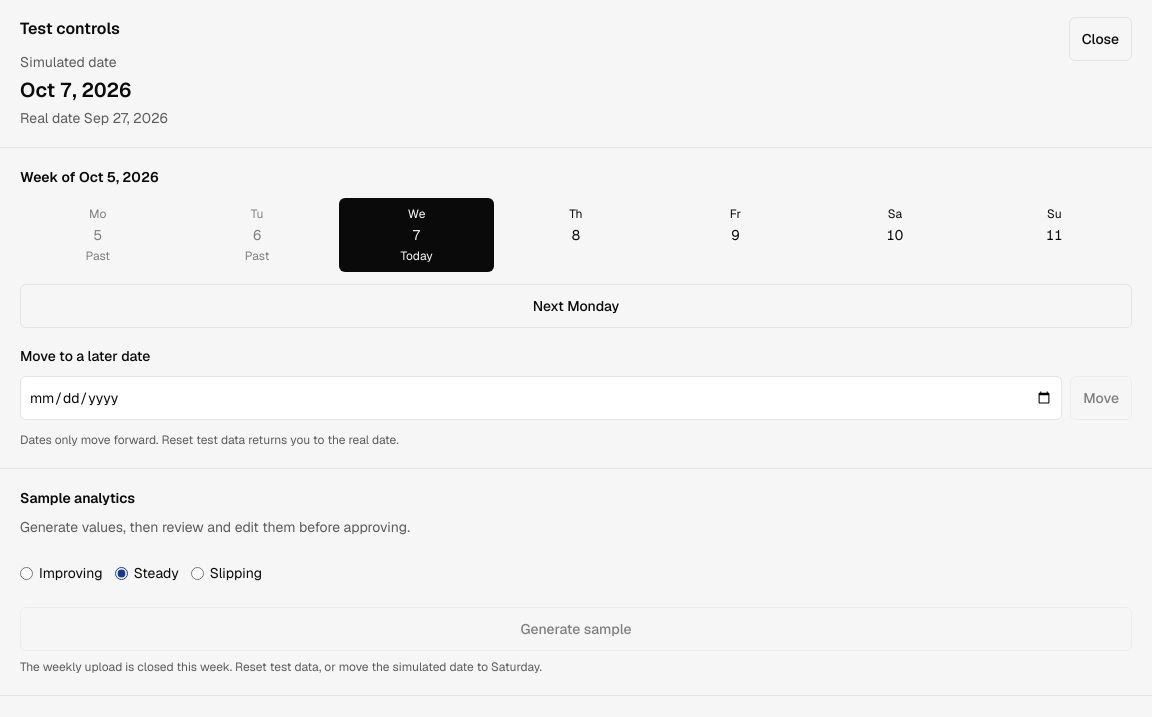
Test controls › moves to a later simulated date and displays its formatted date
The width and height of the screenshot is (1152, 717).
Click the button with aria-label "Th 8, move to Oct 8, 2026" at (576, 235), box [498,198,654,272]
(page scrolled)
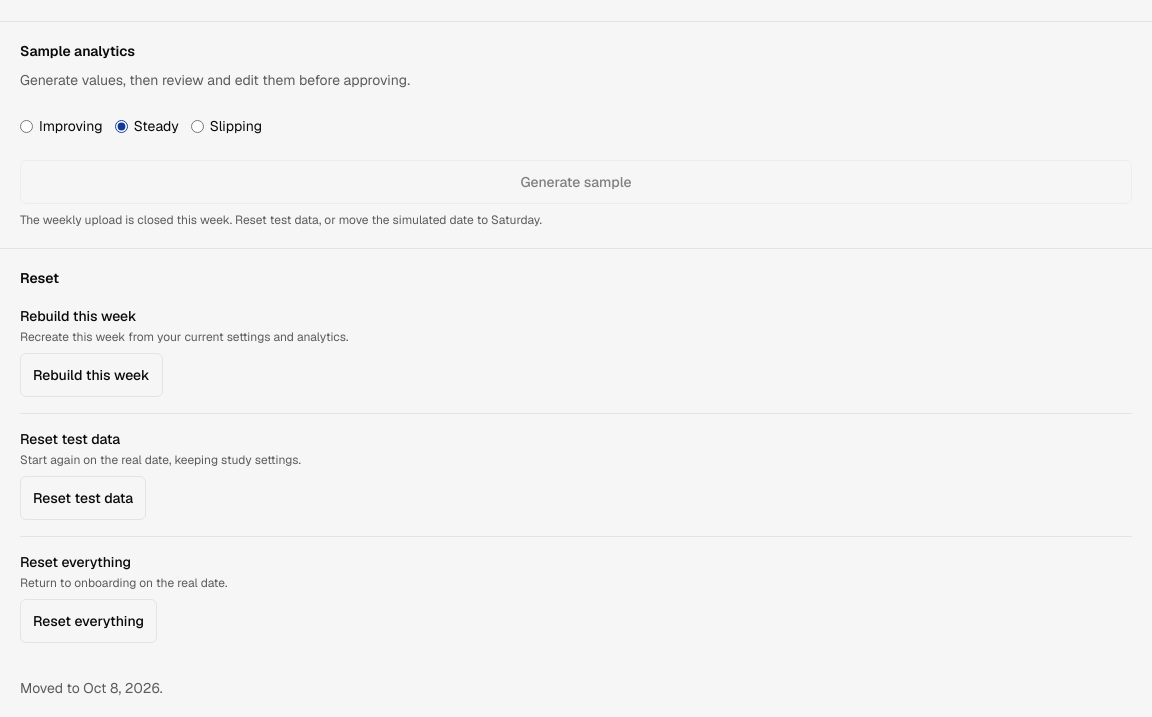
Check: the text "Moved to Oct 8, 2026." is shown, box [20,679,162,697]
